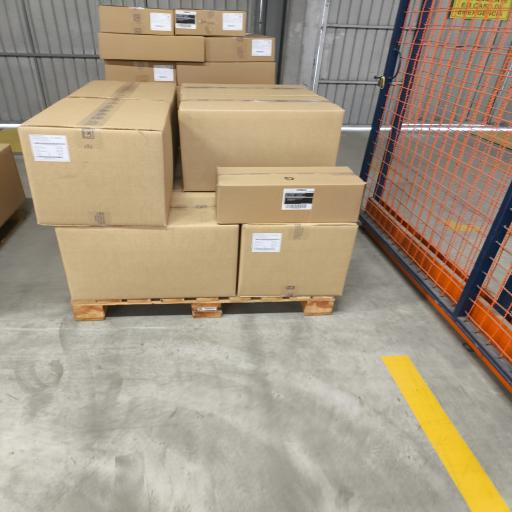pallet: (72, 296, 334, 320), (0, 207, 25, 246)
